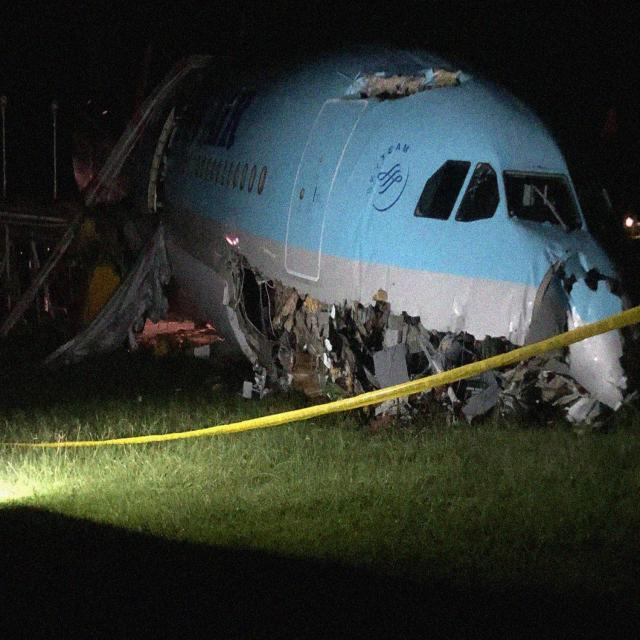crack: (341, 66, 466, 115)
